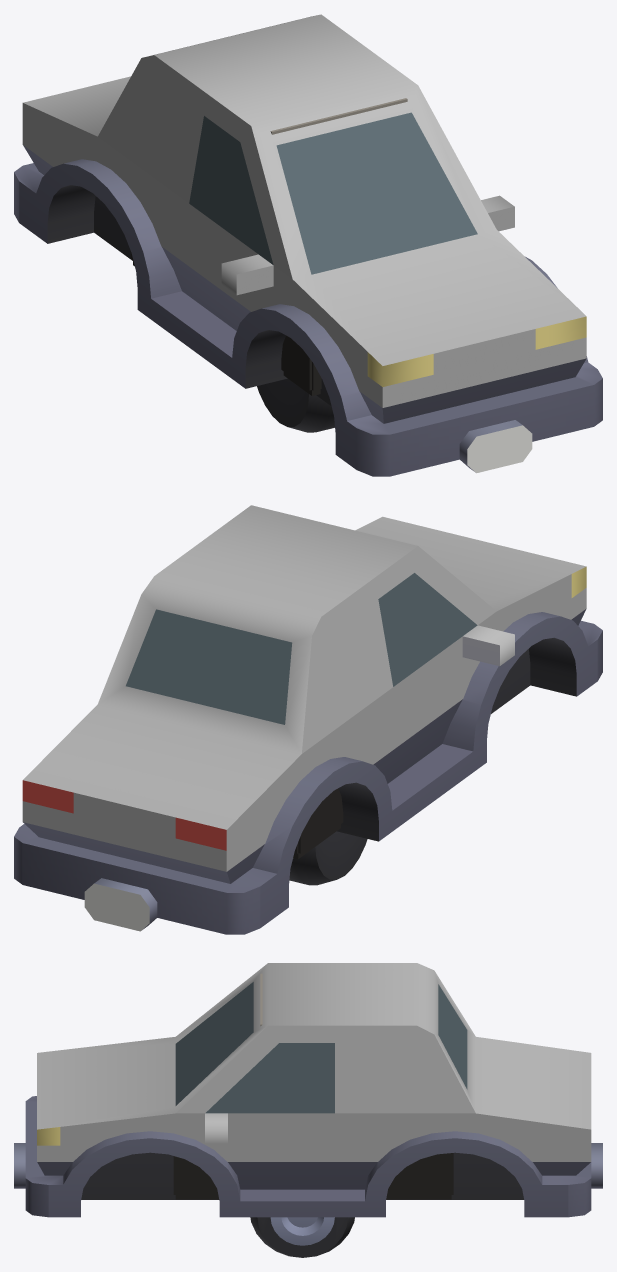
The model's file is tokunbo-saloon-v1.glb.
The picture shows the model from 3 angles, top to bottom: view 1: azimuth 30°, elevation 25°; view 2: azimuth 150°, elevation 25°; view 3: azimuth 270°, elevation 25°; orthographic projection. The views are drawn at different scales.
Visible parts, largest first — view 1: paint, trim, glass, wheel, headlamp, plate, interior; view 2: paint, trim, glass, wheel, plate, taillamp, interior; view 3: paint, trim, glass, interior, wheel, headlamp.
Boxes of the visible parts, x1,y1,x2,y2 form: paint: (22,14,586,407); trim: (14,145,602,476); glass: (189,112,477,274); wheel: (257,378,334,432); headlamp: (367,316,586,386); plate: (467,425,532,473); interior: (130,98,407,395); paint: (22,505,586,871); trim: (14,609,602,934); glass: (126,573,477,724); wheel: (289,831,367,885); plate: (84,883,149,931); taillamp: (22,780,226,850); interior: (293,788,343,859); paint: (37,963,591,1161); trim: (14,1096,602,1217); glass: (175,982,467,1113); interior: (173,973,453,1199); wheel: (250,1217,354,1257); headlamp: (37,1127,60,1145).
Size of the model in its own units: 1.88 by 2.16 by 4.46.
8 materials, 2 textured.
